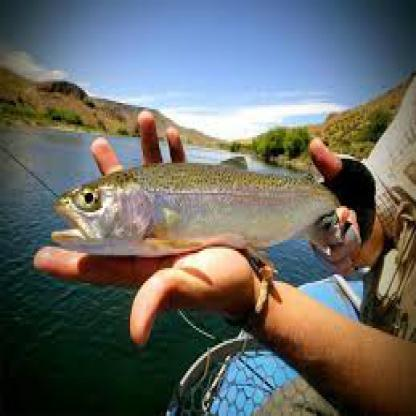fish: (51, 150, 364, 254)
